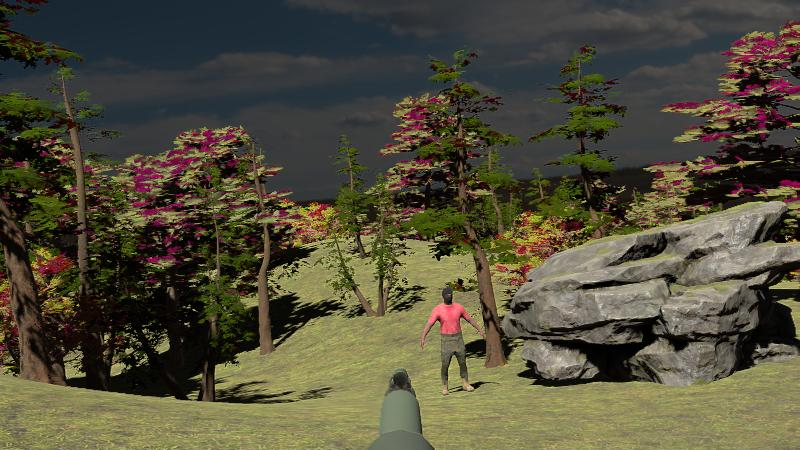Human: (420, 287, 483, 397)
